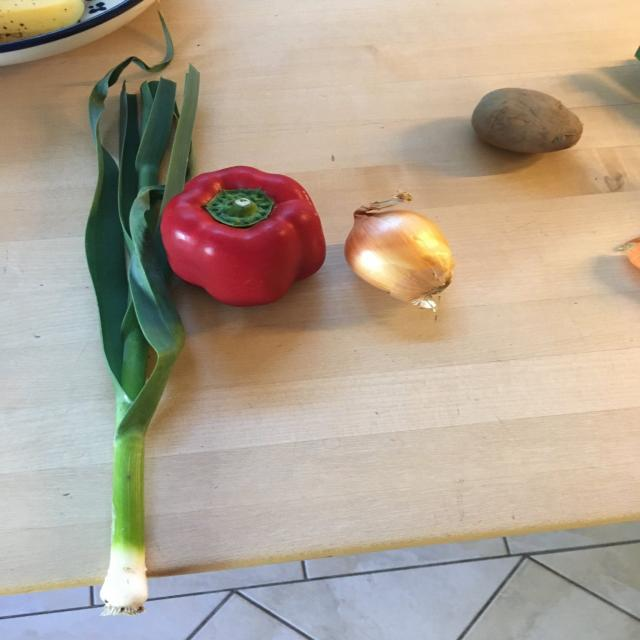Leek: (66, 13, 214, 618)
Onion: (325, 184, 463, 321)
Pepper: (160, 162, 336, 308)
Potato: (459, 79, 593, 162)
